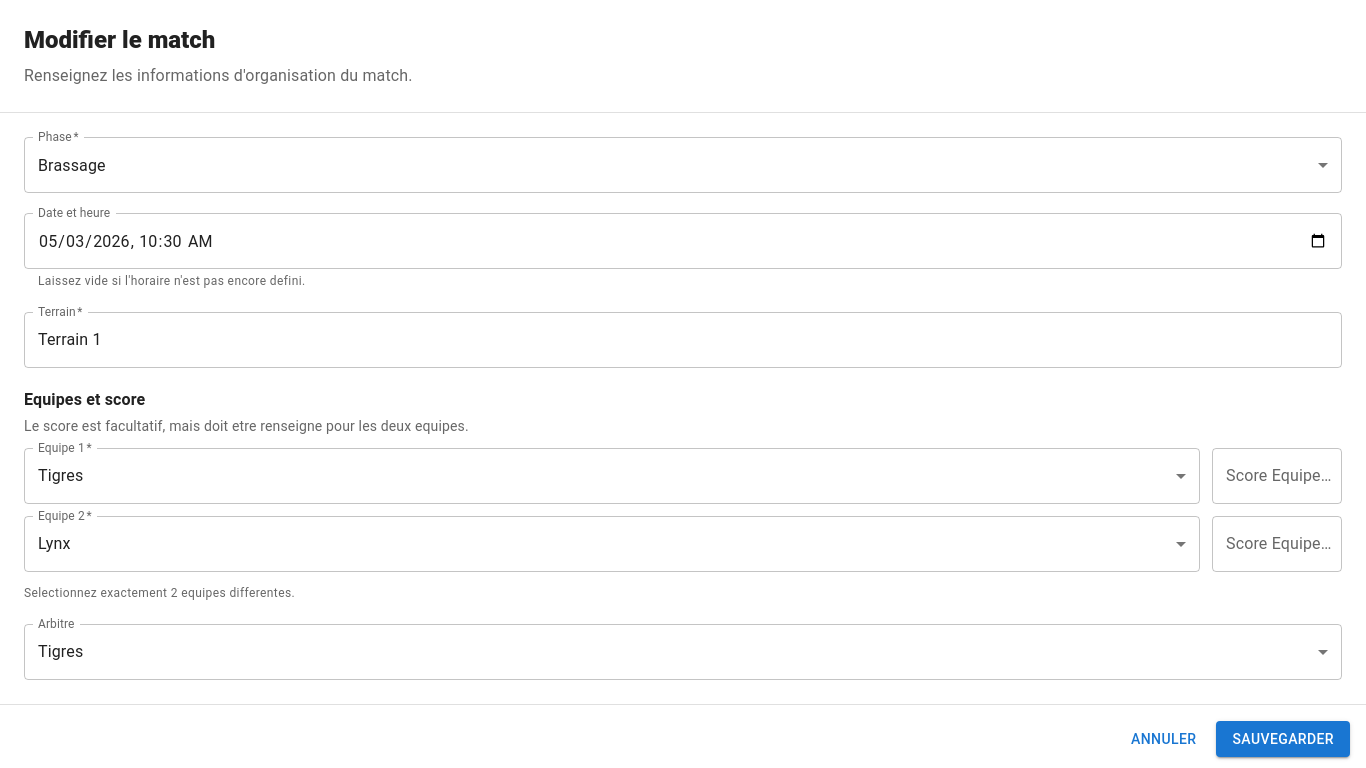
Test: ManageGameForm › should require both scores when one score is provided
Step 1. Type "12" into the number field labelled "Score Equipe 1" → point(1277, 476), box top-left (1212, 448), bottom-right (1342, 504)
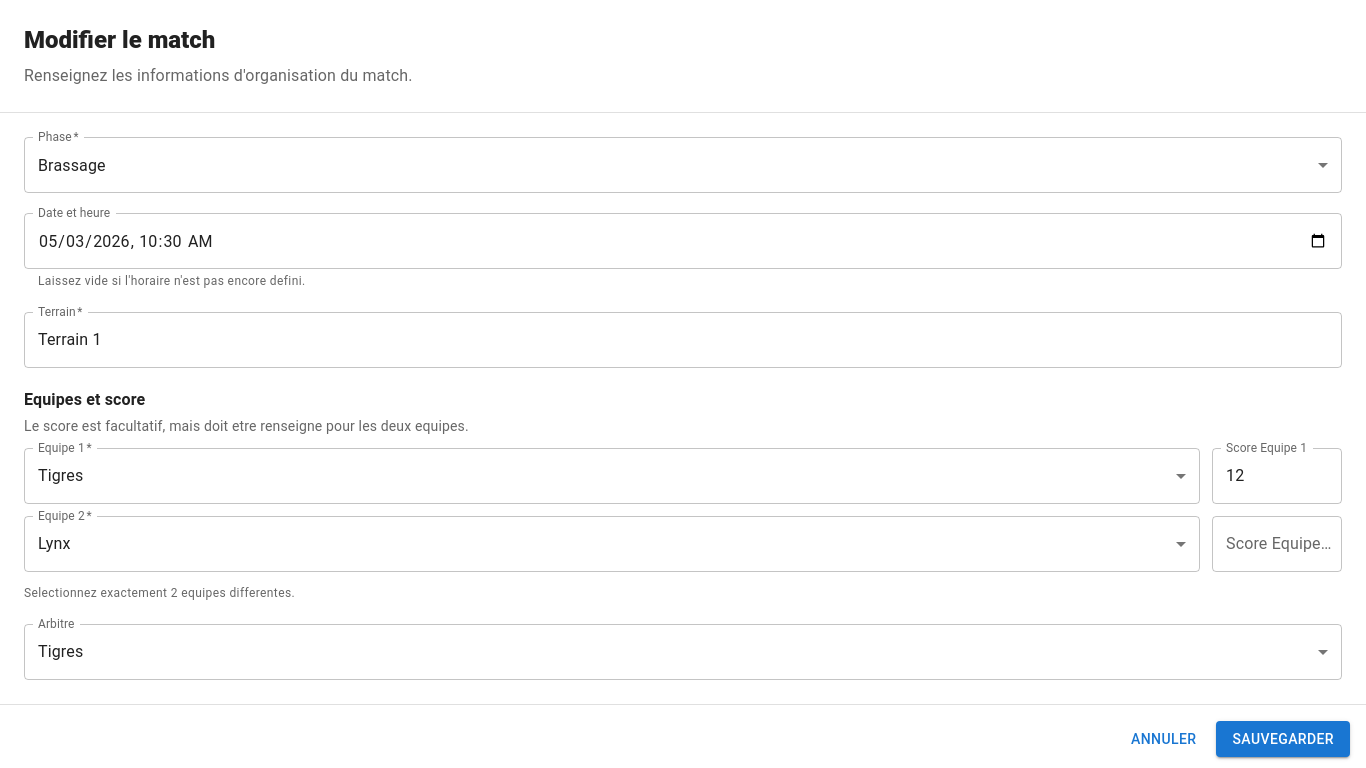
Step 2. Click the button "Sauvegarder" → point(1283, 739), box top-left (1216, 721), bottom-right (1350, 757)
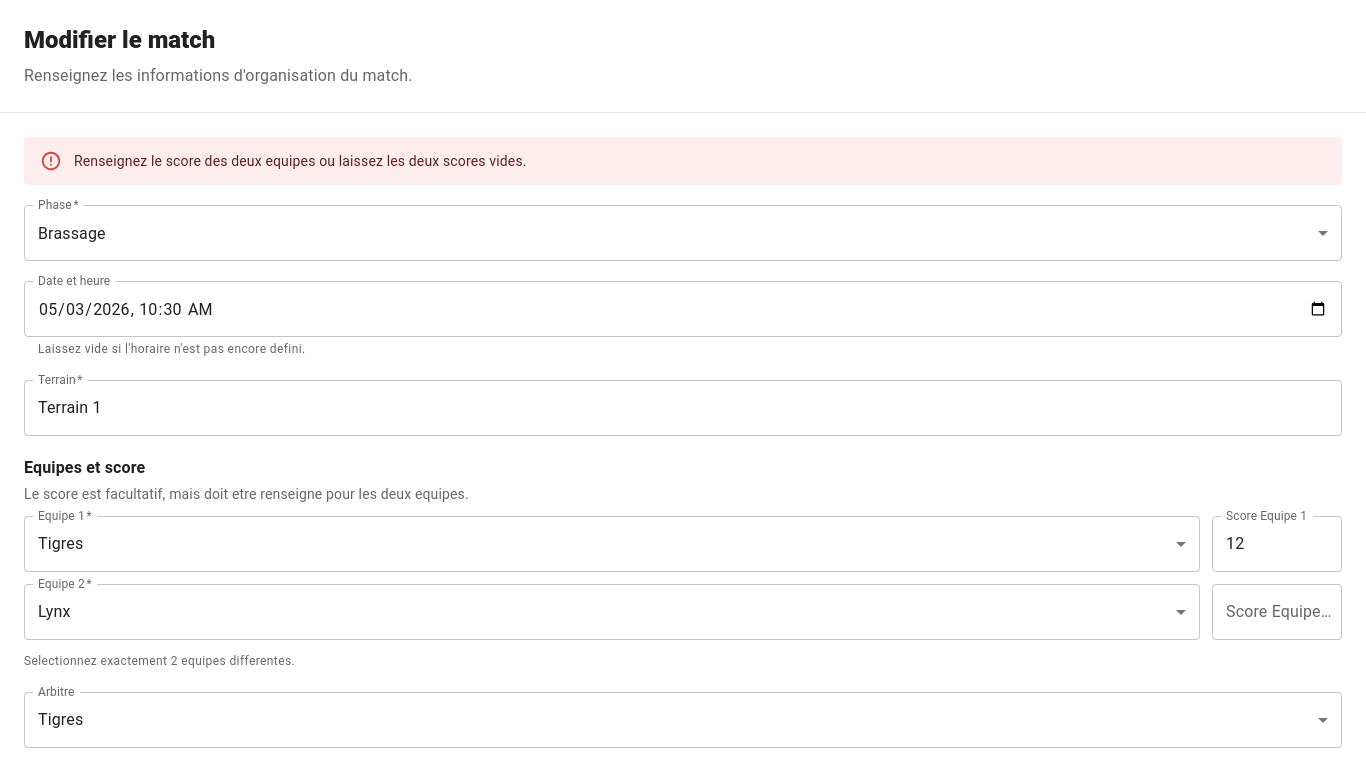
Expected: the text "Renseignez le score des deux equipes ou laissez les deux scores vides." is shown, top-left (74, 153), bottom-right (527, 169)
